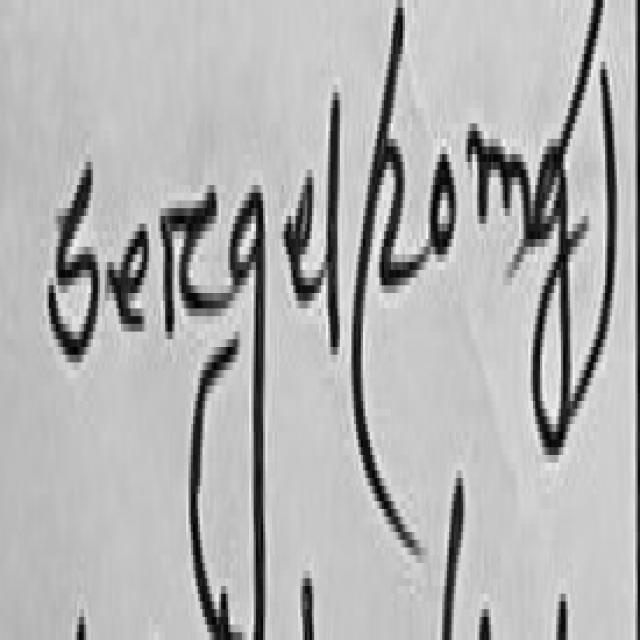0: (428, 154, 456, 251)
2: (382, 138, 431, 281)
S: (49, 162, 98, 359)
e: (284, 177, 326, 301), (107, 224, 147, 328)
g: (191, 193, 265, 640), (531, 136, 587, 462)
l: (329, 93, 339, 351)
m: (468, 123, 535, 251)
r: (165, 185, 233, 328)
